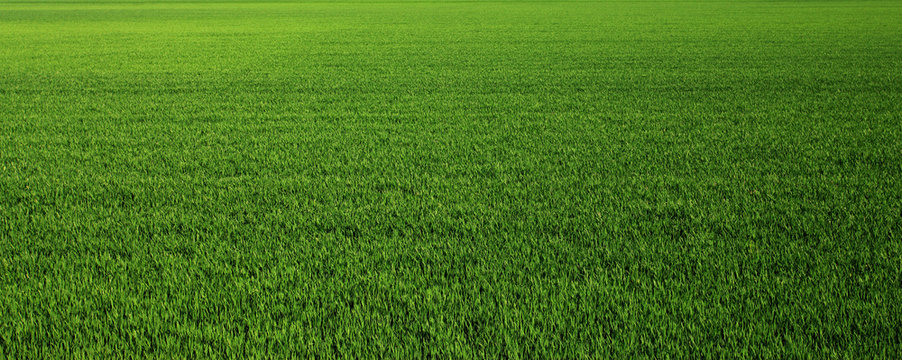grass: (1, 2, 902, 360)
